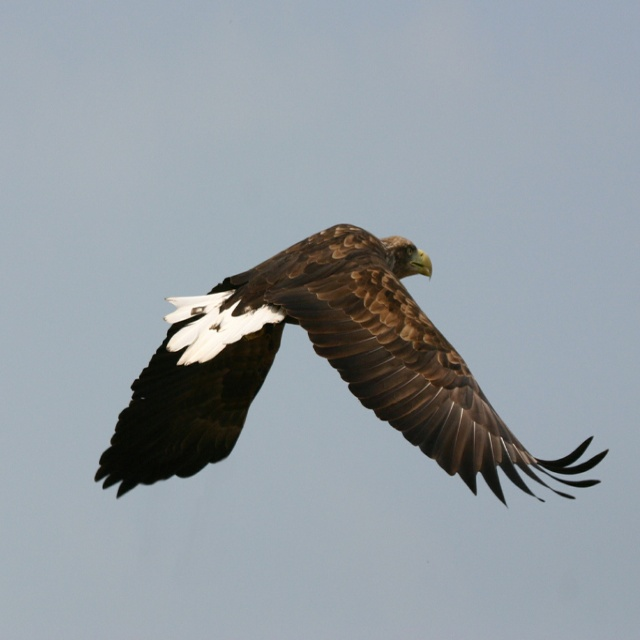Eagle: (86, 219, 614, 536)
